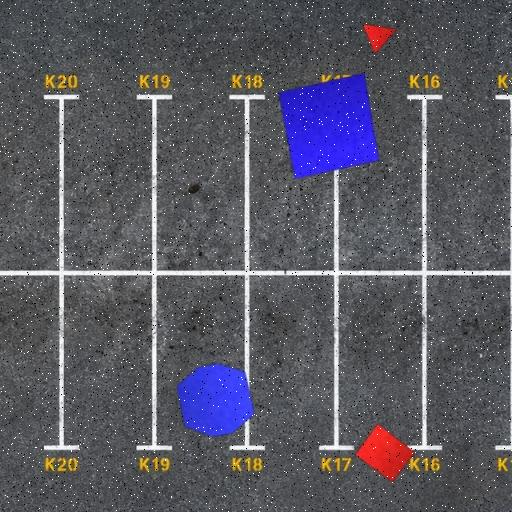BLUE_SQUARE: (278, 72, 380, 179)
RED_SQUARE: (354, 423, 416, 483)
